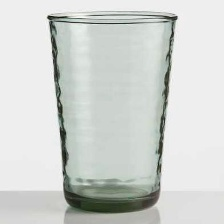glass: (40, 5, 194, 216)
